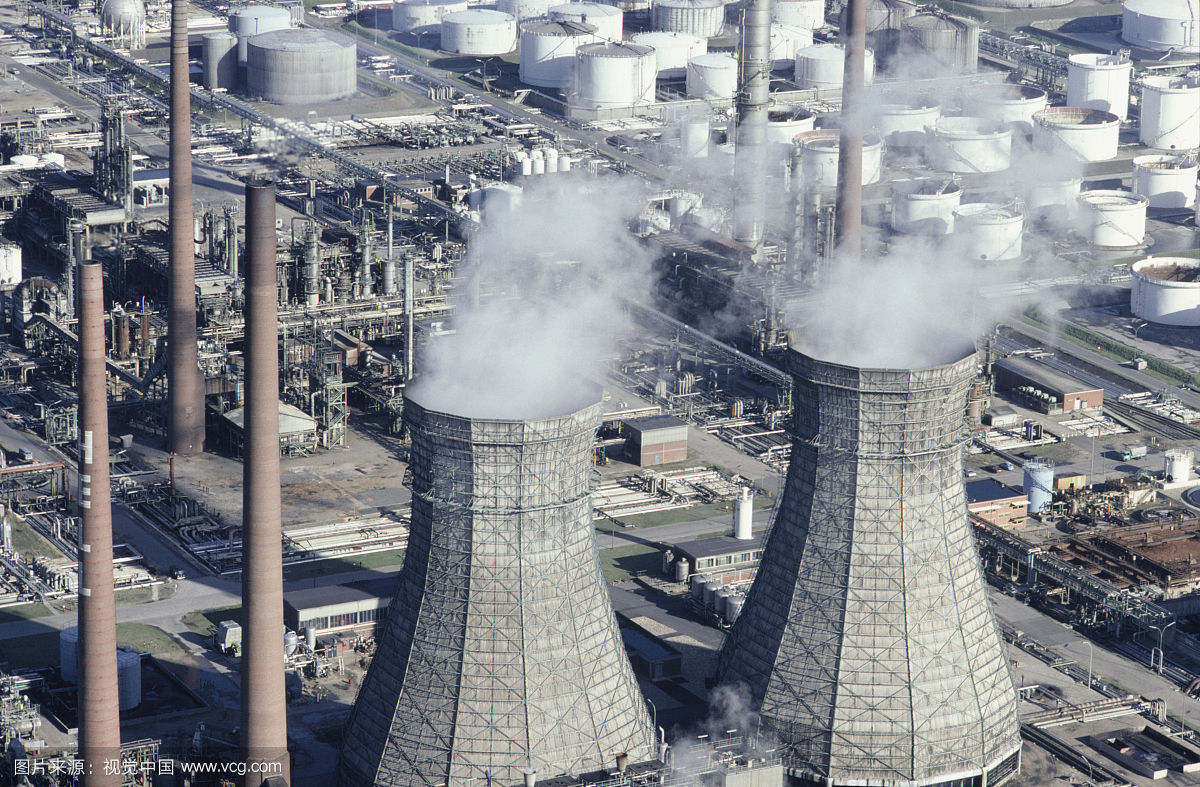dust: (740, 151, 1102, 389), (409, 182, 668, 435)
